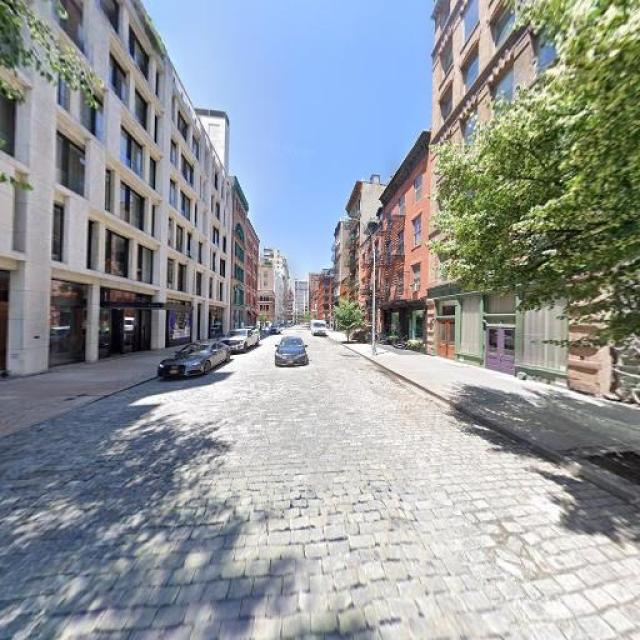Building: (1, 1, 229, 380), (429, 1, 597, 395), (604, 1, 640, 407), (382, 132, 426, 352)
